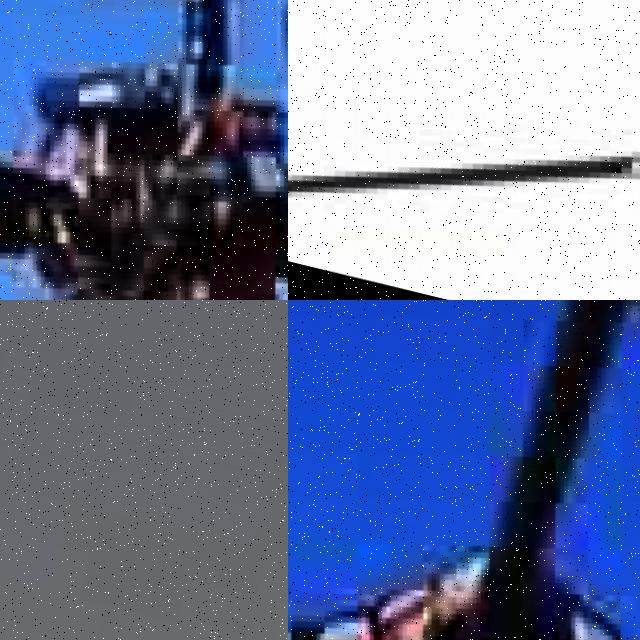drone: (288, 300, 640, 640), (288, 5, 640, 300), (0, 0, 288, 300)
